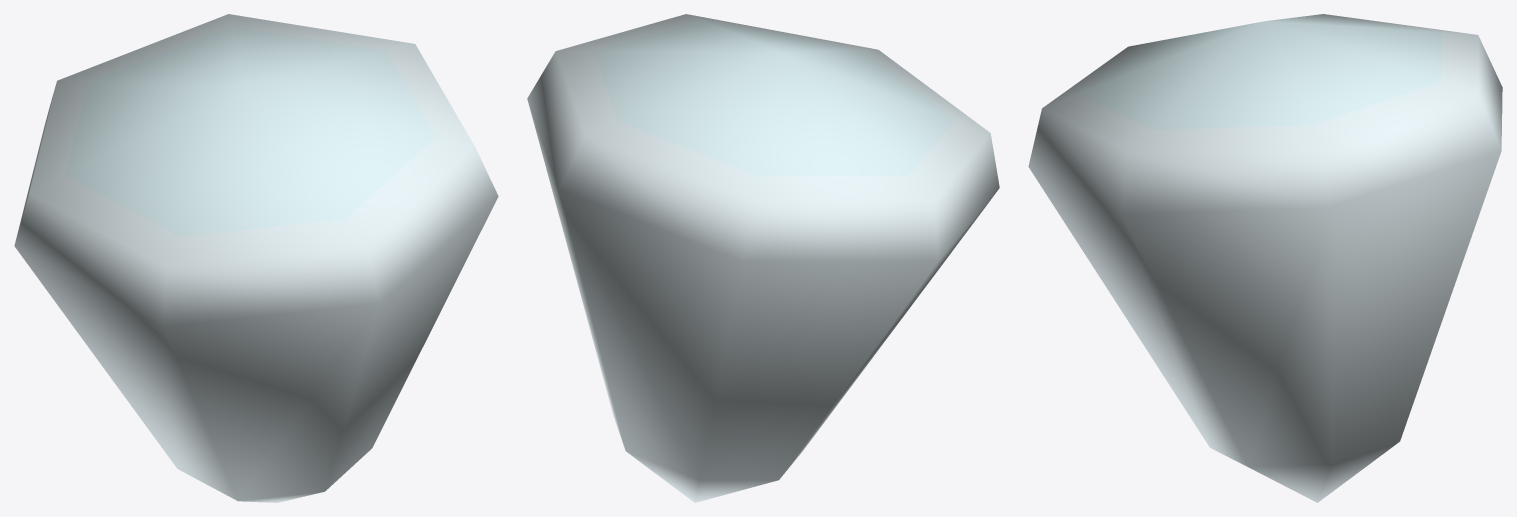
Rendered from INST_COURAGEPOINT_50.obj.
3 renders of one model, left to right at view 1: azimuth 30°, elevation 25°; view 2: azimuth 150°, elevation 25°; view 3: azimuth 270°, elevation 25°, orthographic.
Visible parts, largest first — view 1: CouragePoint_50; view 2: CouragePoint_50; view 3: CouragePoint_50.
Part boxes in pixels (bbox=[...]): CouragePoint_50: bbox=[14, 14, 498, 502]; CouragePoint_50: bbox=[527, 14, 999, 502]; CouragePoint_50: bbox=[1028, 14, 1502, 502].
Bounding box in the file's own units: 71.93 × 74.13 × 70.46.
